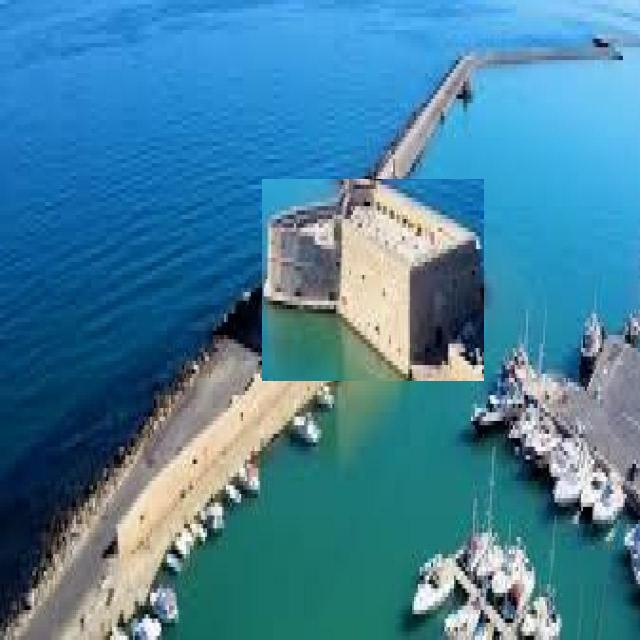Kules: (263, 180, 485, 382)
